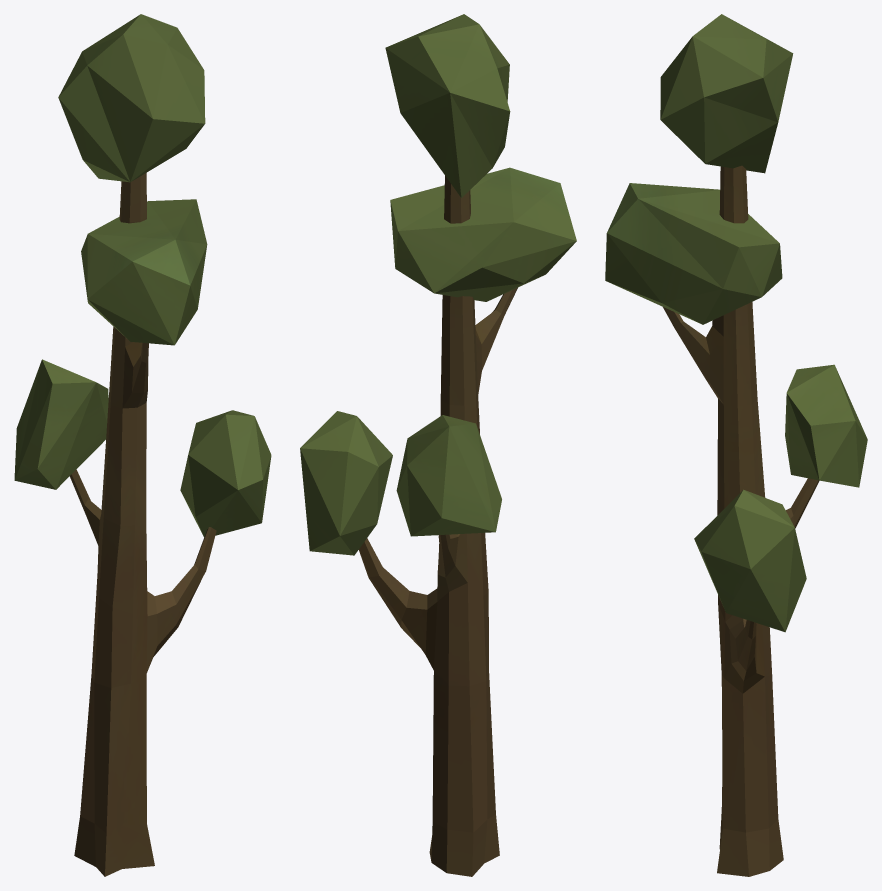
Rendered from Tree4Stage3.fbx.
The picture shows the model from 3 angles, left to right: view 1: azimuth 30°, elevation 25°; view 2: azimuth 150°, elevation 25°; view 3: azimuth 270°, elevation 25°; orthographic projection. The views are drawn at different scales.
Visible parts, largest first — view 1: Tree4Stage3; view 2: Tree4Stage3; view 3: Tree4Stage3.
Part boxes in pixels (x1=…): Tree4Stage3: x1=14, y1=14, x2=271, y2=876; Tree4Stage3: x1=300, y1=14, x2=576, y2=876; Tree4Stage3: x1=605, y1=14, x2=867, y2=876.
Size of the model in its own units: 86.82 by 302 by 85.18.
